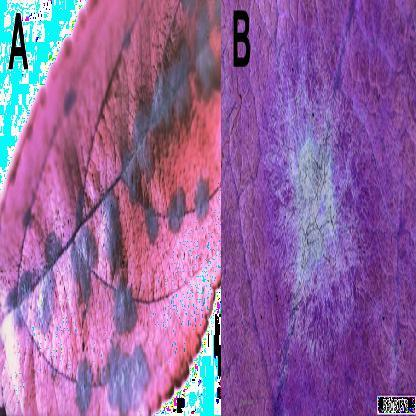Apple Scab Leaf: (3, 1, 222, 414)
